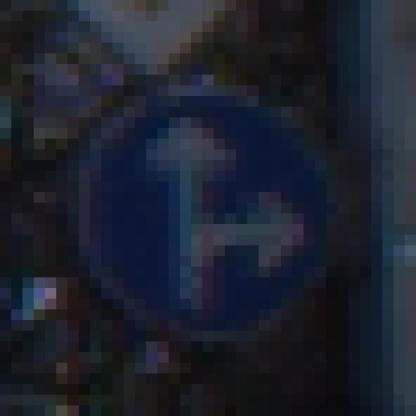Straight or Right: (57, 54, 361, 364)
